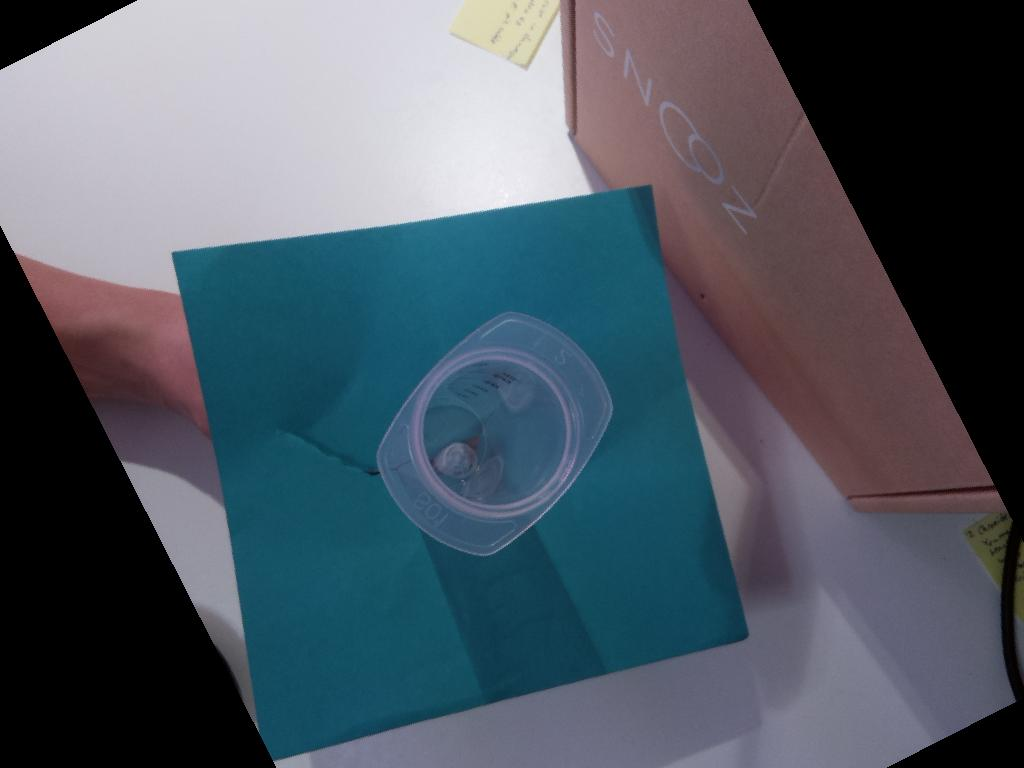clean: (375, 310, 616, 559)
